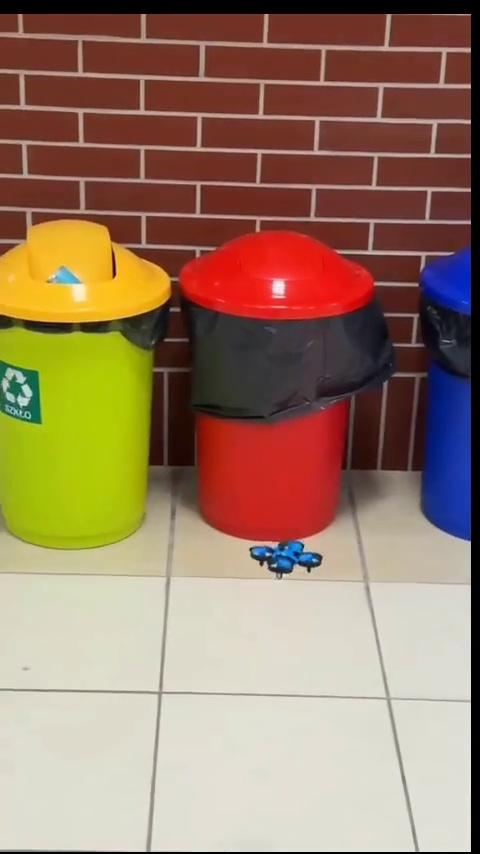drone: (250, 543, 323, 577)
